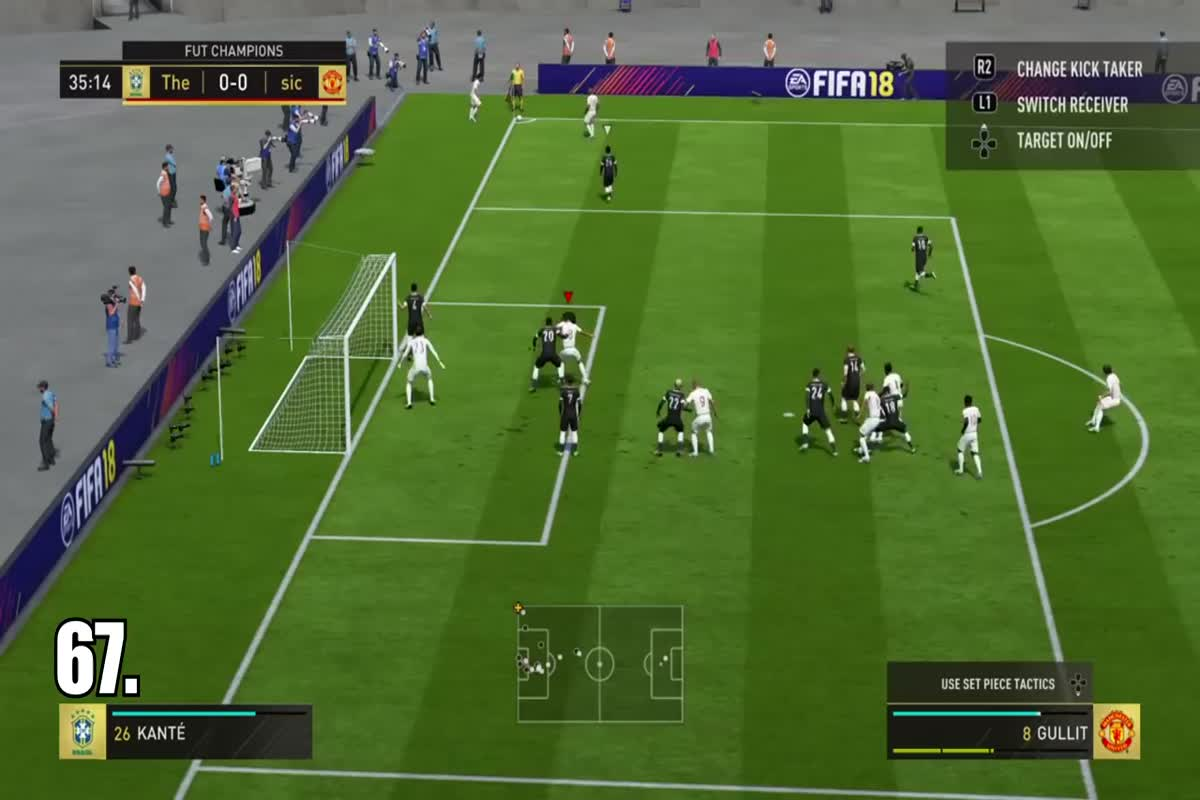ball: (511, 112, 526, 125)
